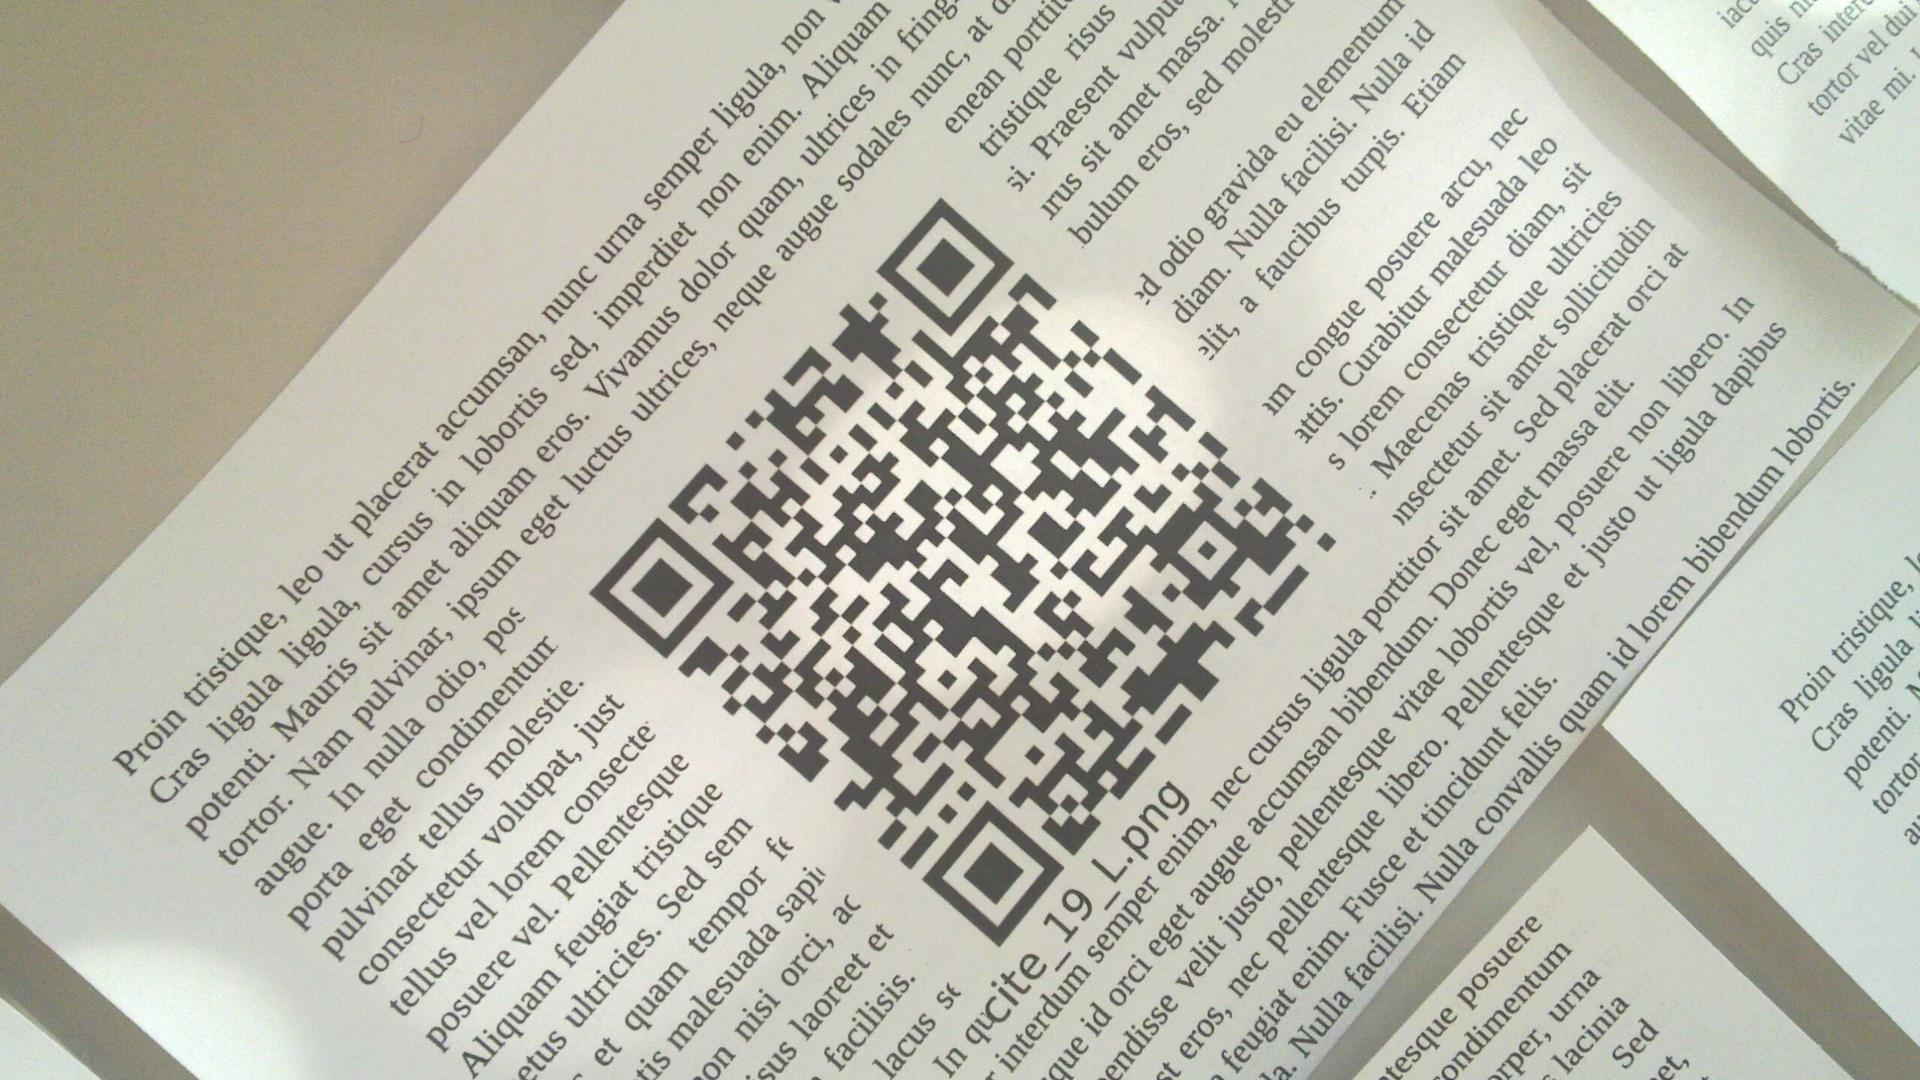Finder pattern: (913, 795, 1068, 944), (862, 196, 1019, 334), (583, 520, 731, 661)
